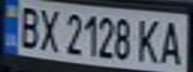1: (81, 11, 100, 57)
2: (60, 9, 84, 56), (97, 12, 118, 60)
8: (112, 15, 136, 62)
A: (157, 17, 187, 65)
B: (12, 2, 42, 50)
K: (133, 16, 163, 64)
X: (33, 4, 63, 52)
